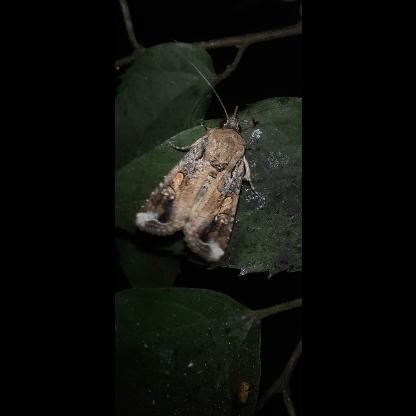Fall Armyworm Moth: (130, 58, 268, 264)
